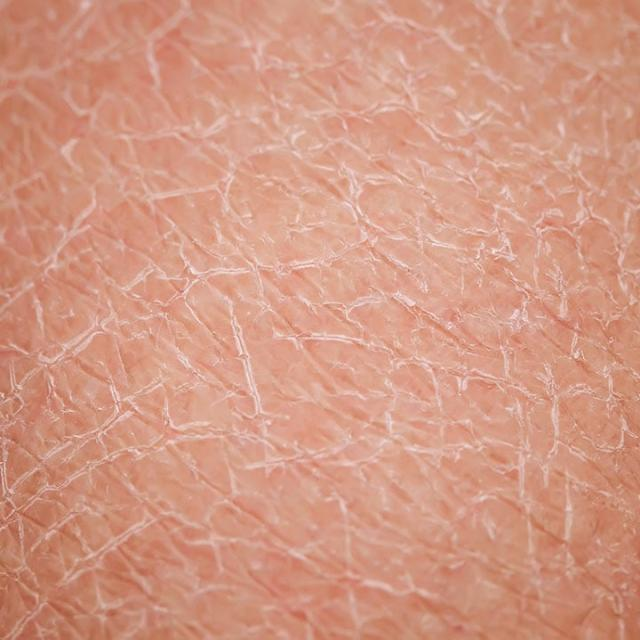Dry-Skin: (22, 15, 578, 640)
